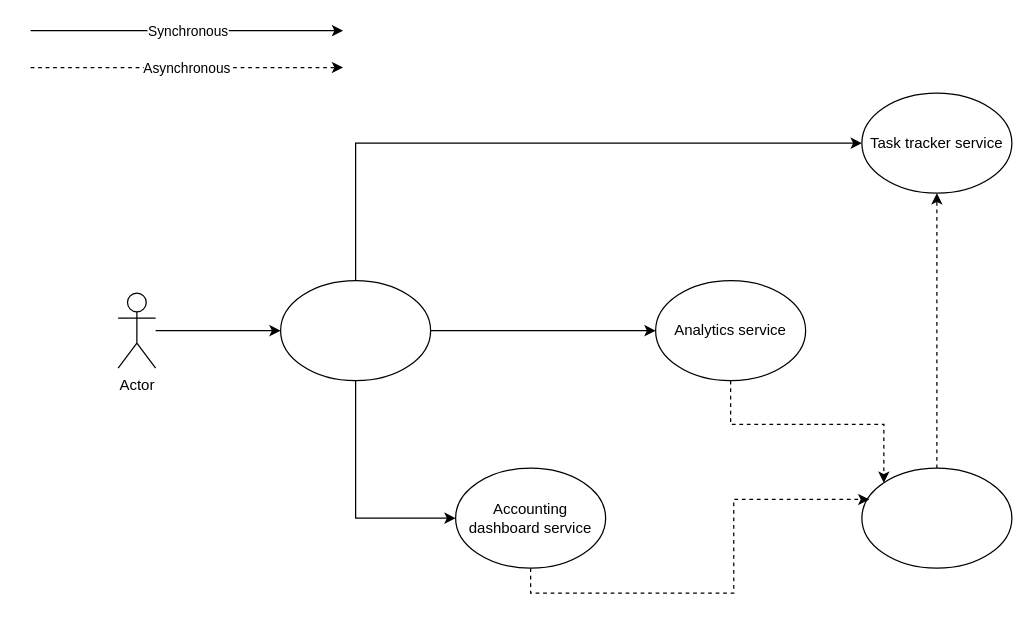
The diagram is 1034 pixels wide and 625 high, and some of its shapes have lost their labels. Here are the shapes that lost their labels. From the top down, the centre of each, then its label:
At point (355, 330): "Auth service".
At point (936, 517): "Accounting service".
